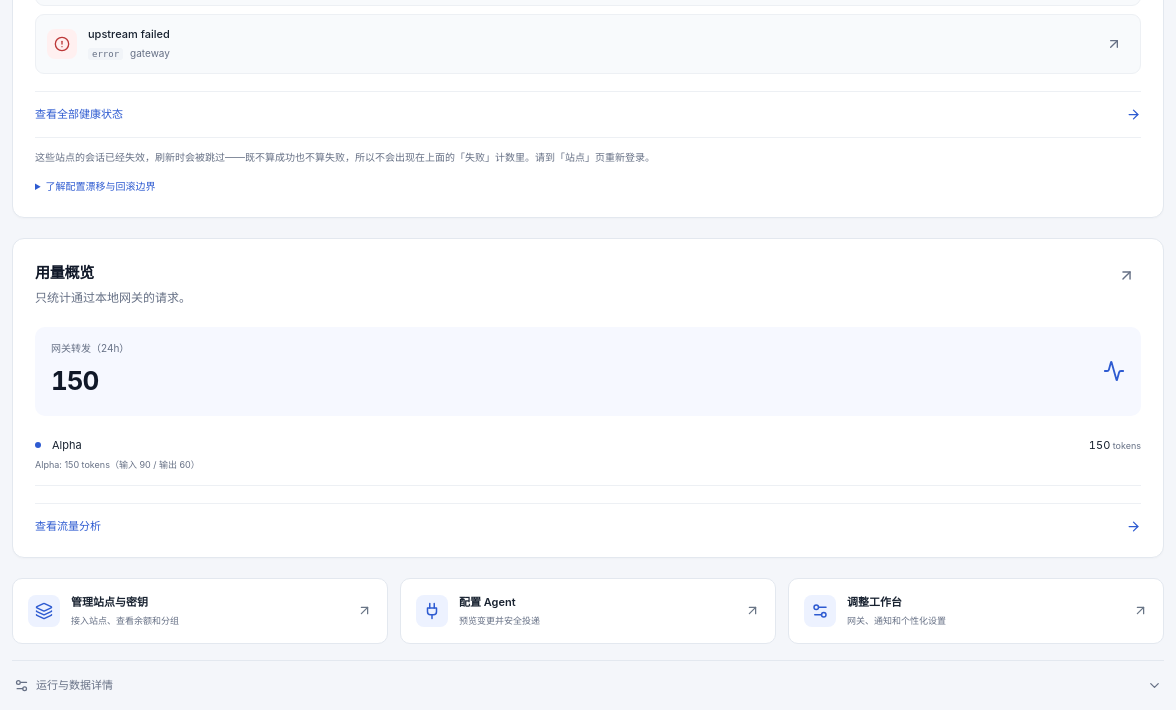
Test case: Cockpit › 运行状态收进系统详情，需登录项仍可定位
(page scrolled)
Click the heading "运行与数据详情": (74, 685) 14,678 -> 1162,693
(page scrolled)
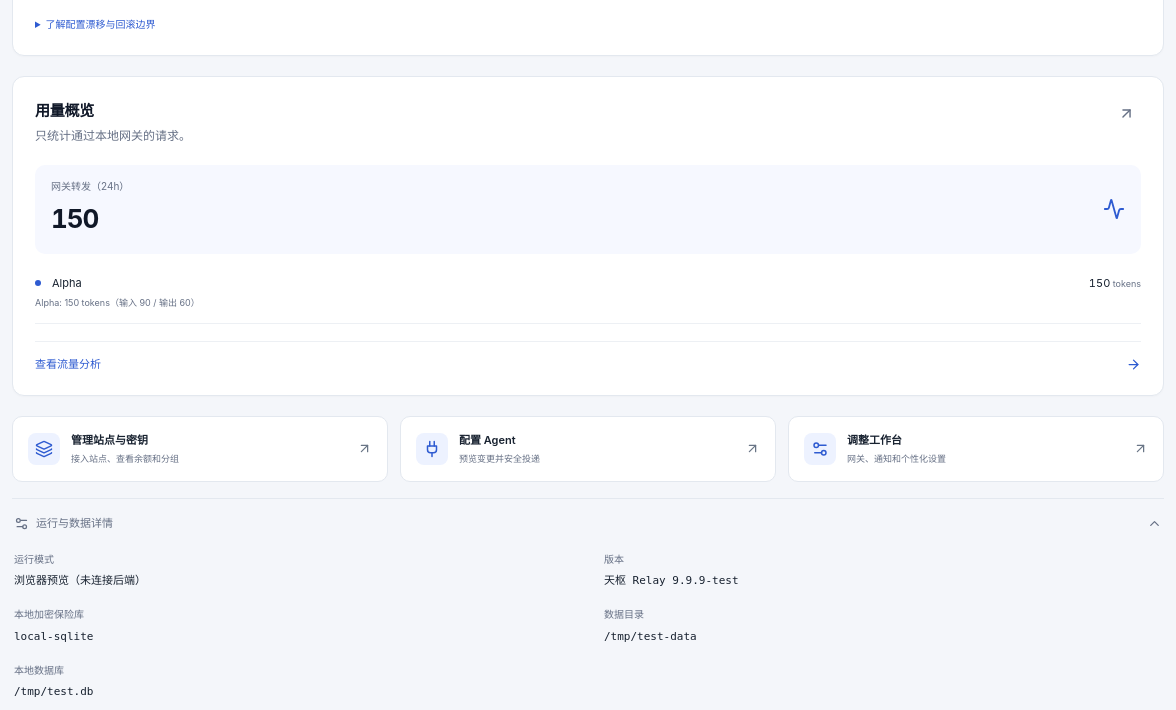
Check: the text "/tmp/test-data" is shown, box 604,630 -> 697,643
